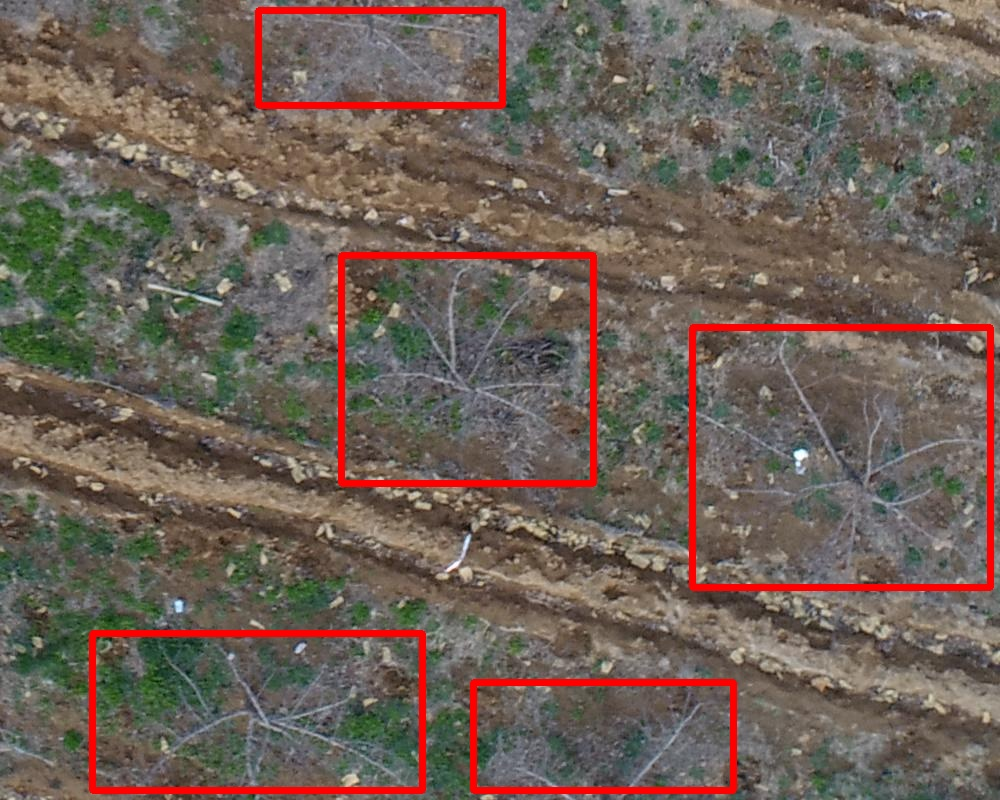apple: (692, 327, 990, 587), (341, 255, 593, 483), (92, 633, 422, 790), (473, 682, 733, 790), (258, 10, 502, 105)
